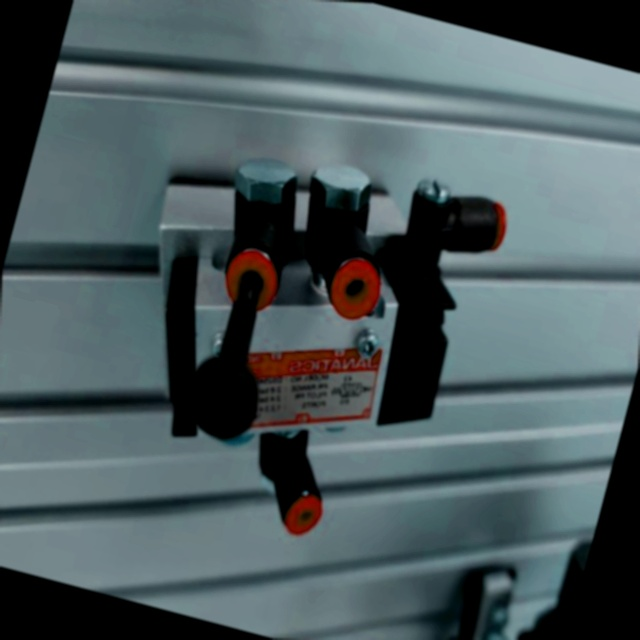5by2 DCV: (46, 69, 594, 627)
